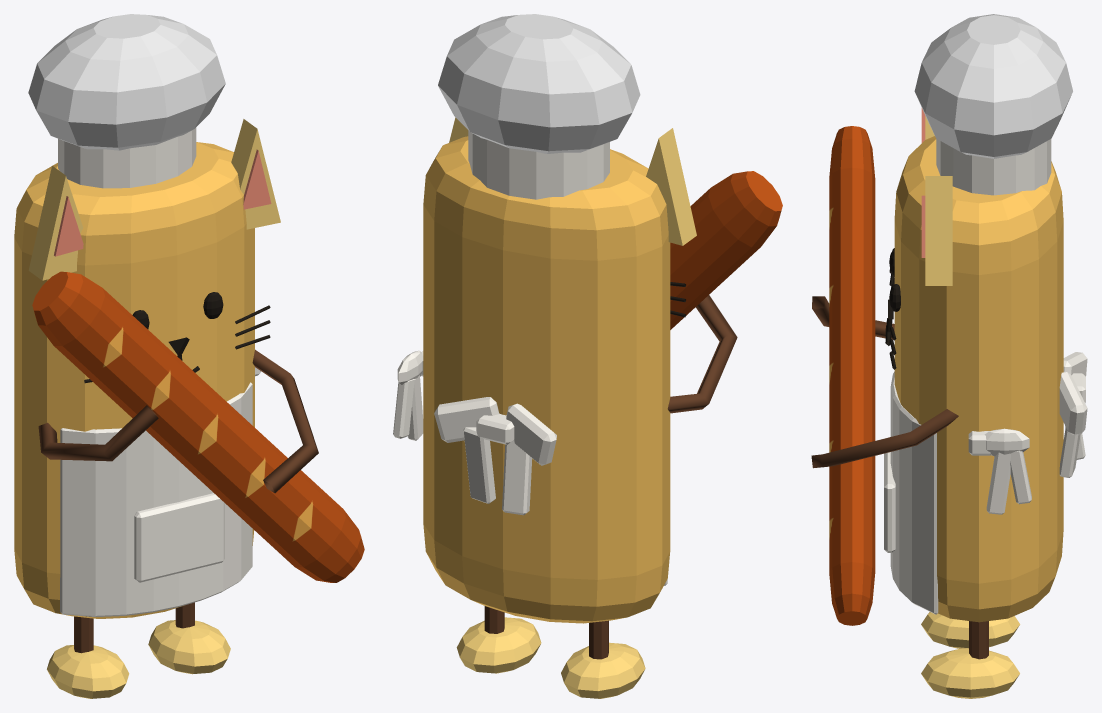
The model's file is char_baker_cat_rebuild_v5.glb.
The picture shows the model from 3 angles, left to right: view 1: azimuth 30°, elevation 25°; view 2: azimuth 150°, elevation 25°; view 3: azimuth 270°, elevation 25°; orthographic projection. The views are drawn at different scales.
Parts seen in each view (by area): view 1: BC3_Body_Capsule, BC3_Baguette, BC3_Apron_Front, BC3_Hat_Puff, BC3_Apron_Pocket, BC3_Hat_Band, BC3_Foot_R, BC3_Foot_L, BC3_Ear_L, BC3_Arm_R_LowerWrap, BC3_Arm_L_UpperSupport, BC3_Ear_R (+3 smaller); view 2: BC3_Body_Capsule, BC3_Hat_Puff, BC3_Baguette, BC3_Hat_Band, BC3_Foot_R, BC3_Foot_L, BC3_Ear_L, BC3_Arm_L_UpperSupport, BC3_Ribbon_L, BC3_Bow_L, BC3_Bow_R, BC3_Ribbon_R (+5 smaller); view 3: BC3_Body_Capsule, BC3_Baguette, BC3_Hat_Puff, BC3_Apron_Front, BC3_Hat_Band, BC3_Foot_R, BC3_Ear_R, BC3_Arm_R_LowerWrap, BC3_Foot_L, BC3_Bow_R, BC3_Apron_SideTie_Tail_A, BC3_Apron_Pocket (+7 smaller).
Boxes of the visible parts, <box> form: BC3_Body_Capsule: <box>14,142,254,618</box>; BC3_Baguette: <box>32,271,364,582</box>; BC3_Apron_Front: <box>60,382,252,616</box>; BC3_Hat_Puff: <box>28,14,225,150</box>; BC3_Apron_Pocket: <box>134,493,224,582</box>; BC3_Hat_Band: <box>58,127,196,188</box>; BC3_Foot_R: <box>148,620,230,674</box>; BC3_Foot_L: <box>47,645,129,698</box>; BC3_Ear_L: <box>28,165,83,280</box>; BC3_Arm_R_LowerWrap: <box>252,349,318,493</box>; BC3_Arm_L_UpperSupport: <box>38,405,158,461</box>; BC3_Ear_R: <box>231,119,280,229</box>; BC3_Body_Capsule: <box>423,136,670,623</box>; BC3_Hat_Puff: <box>438,14,640,153</box>; BC3_Baguette: <box>670,171,782,329</box>; BC3_Hat_Band: <box>468,130,609,199</box>; BC3_Foot_R: <box>456,617,541,673</box>; BC3_Foot_L: <box>561,642,645,698</box>; BC3_Ear_L: <box>646,128,696,245</box>; BC3_Arm_L_UpperSupport: <box>667,295,737,413</box>; BC3_Ribbon_L: <box>502,440,532,515</box>; BC3_Bow_L: <box>506,403,556,465</box>; BC3_Bow_R: <box>434,397,499,442</box>; BC3_Ribbon_R: <box>463,427,495,503</box>; BC3_Body_Capsule: <box>894,136,1063,622</box>; BC3_Baguette: <box>829,126,875,625</box>; BC3_Hat_Puff: <box>914,14,1072,158</box>; BC3_Apron_Front: <box>890,371,938,614</box>; BC3_Hat_Band: <box>936,139,1051,195</box>; BC3_Foot_R: <box>921,648,1019,698</box>; BC3_Ear_R: <box>925,176,952,285</box>; BC3_Arm_R_LowerWrap: <box>811,409,958,468</box>; BC3_Foot_L: <box>921,612,1020,648</box>; BC3_Bow_R: <box>1059,372,1087,434</box>; BC3_Apron_SideTie_Tail_A: <box>986,452,1010,514</box>; BC3_Apron_Pocket: <box>884,452,895,552</box>.
Bounding box in the file's own units: 3.56 × 6.67 × 2.61.
7 materials, 1 textured.
